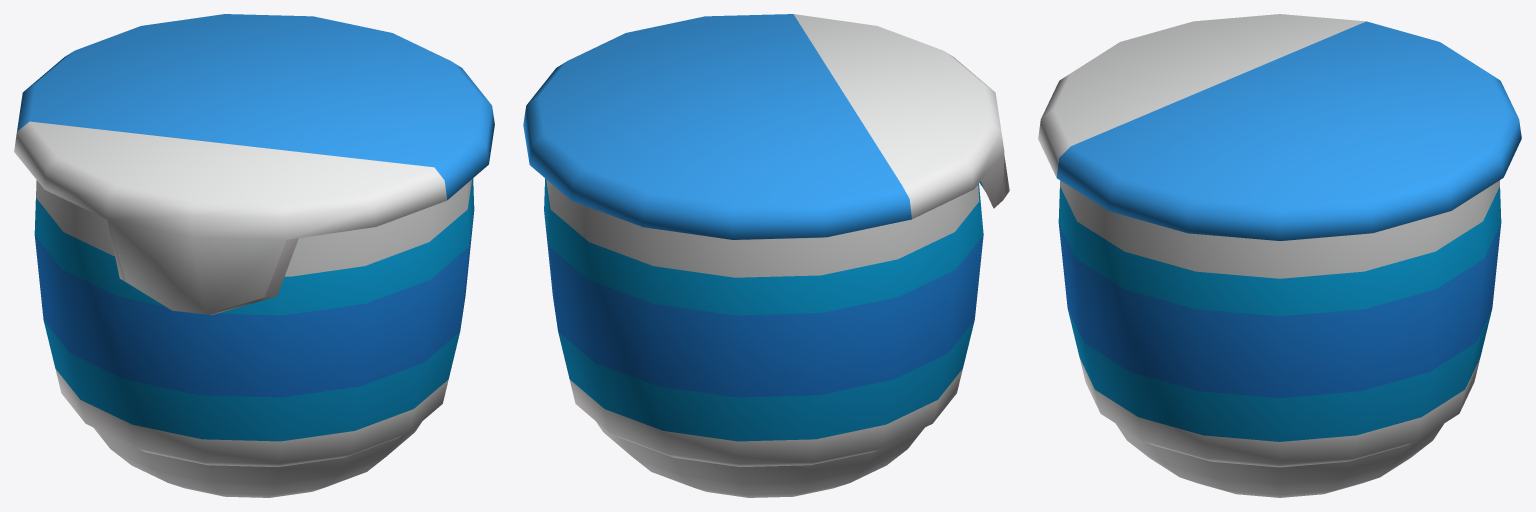
Rendered from sour_cream_002.fbx.
3 renders of one model, left to right at view 1: azimuth 30°, elevation 25°; view 2: azimuth 150°, elevation 25°; view 3: azimuth 270°, elevation 25°, orthographic.
Parts seen in each view (by area): view 1: sour_cream_002; view 2: sour_cream_002; view 3: sour_cream_002.
Part boxes in pixels (<box>): sour_cream_002: <box>14,14,494,497</box>; sour_cream_002: <box>523,14,1009,497</box>; sour_cream_002: <box>1038,14,1521,497</box>.
Size of the model in its own units: 7.62 by 7.62 by 5.91.
